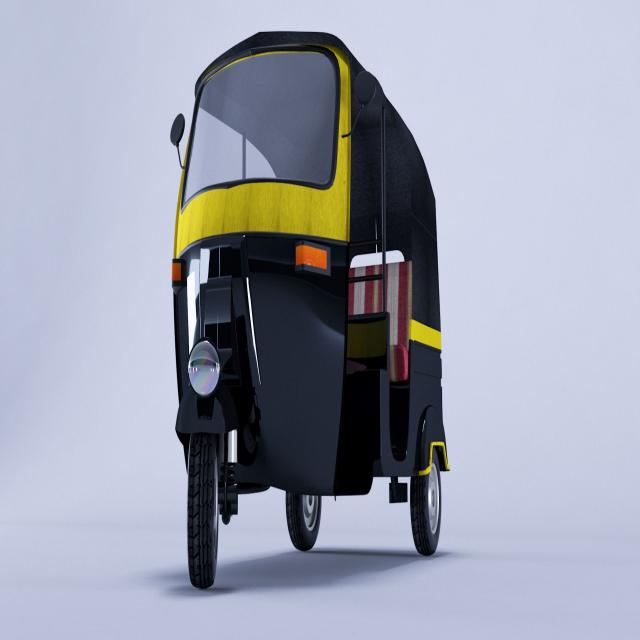autorickshaw: (171, 31, 449, 587)
